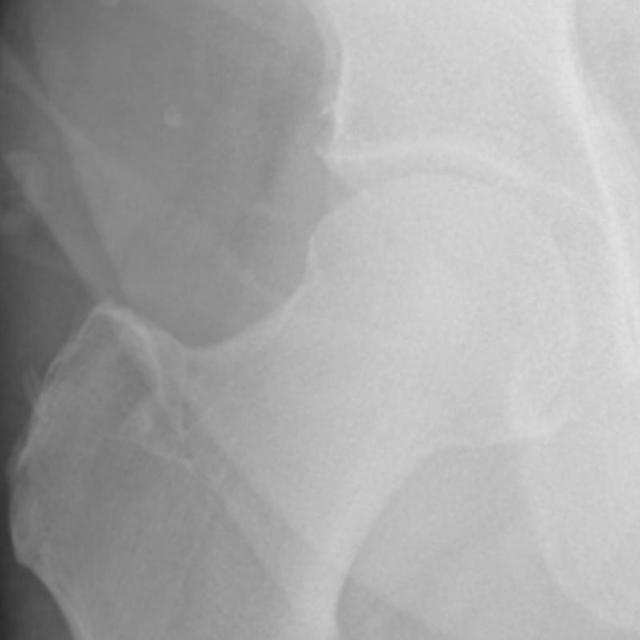Fitted_femural_head: (300, 178, 432, 300)
